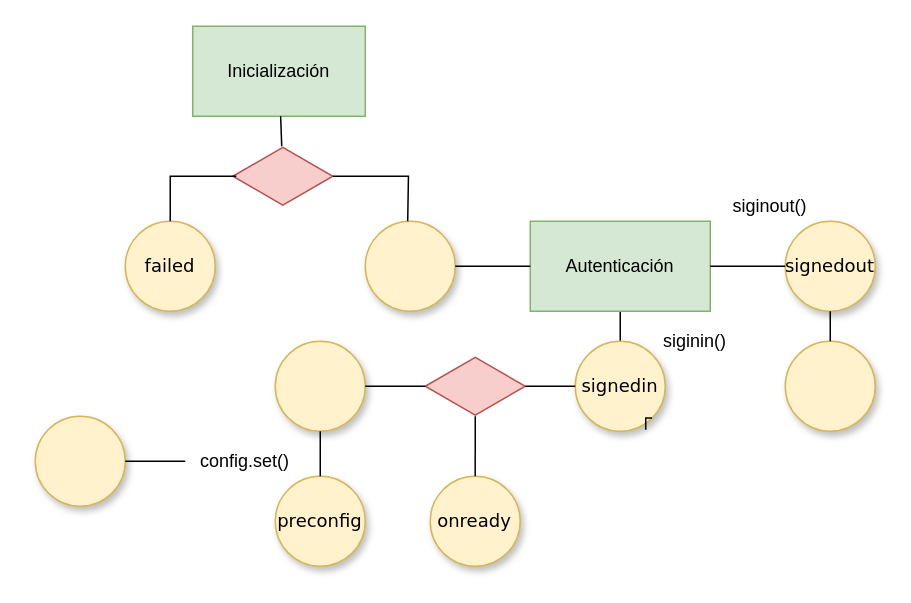
Image size: 911x603. Some labels were removed from this diagram. The centre of each missing label's shape, as x and y in pixels:
noconfig: (x=321, y=388)
onreset: (x=831, y=388)
savedconfig: (x=81, y=463)
succeed: (x=411, y=268)
